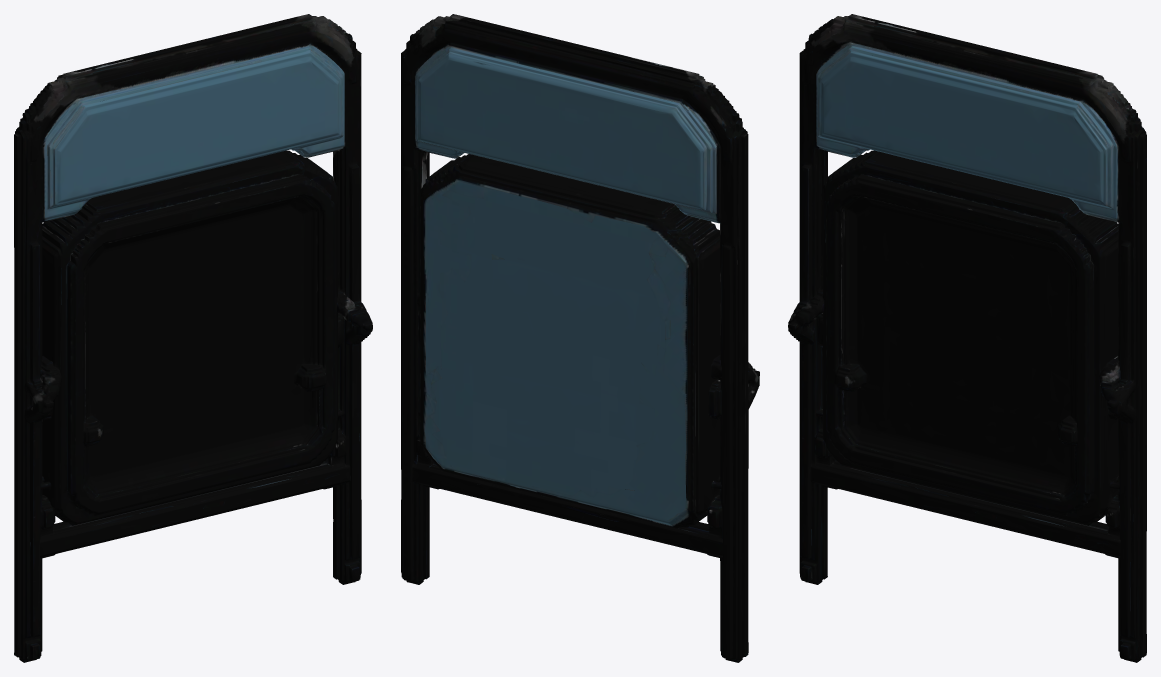
Rendered from chairfolded.glb.
3 renders of one model, left to right at view 1: azimuth 30°, elevation 25°; view 2: azimuth 150°, elevation 25°; view 3: azimuth 330°, elevation 25°, orthographic.
Visible parts, largest first — view 1: node_id5; view 2: node_id5; view 3: node_id5.
Part boxes in pixels (left/top/right/bottom): node_id5: left=14, top=14, right=372, bottom=662; node_id5: left=401, top=14, right=759, bottom=662; node_id5: left=788, top=14, right=1146, bottom=662.
Size of the model in its own units: 0.3202 by 0.512 by 0.0667.
1 material, 1 textured.
